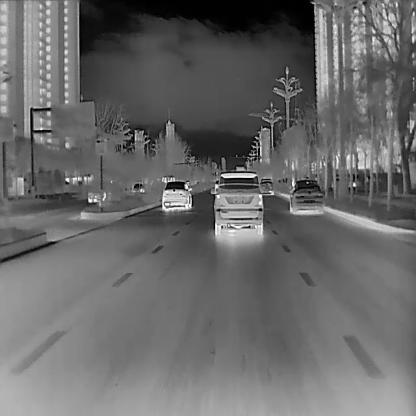car: (209, 170, 263, 235), (289, 178, 323, 214), (160, 180, 192, 210), (258, 177, 274, 195), (130, 182, 145, 194)
